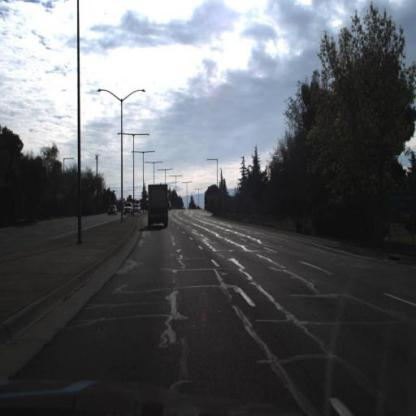car: (107, 205, 118, 218), (124, 202, 133, 217), (169, 203, 174, 212)
truck: (149, 184, 171, 229)
